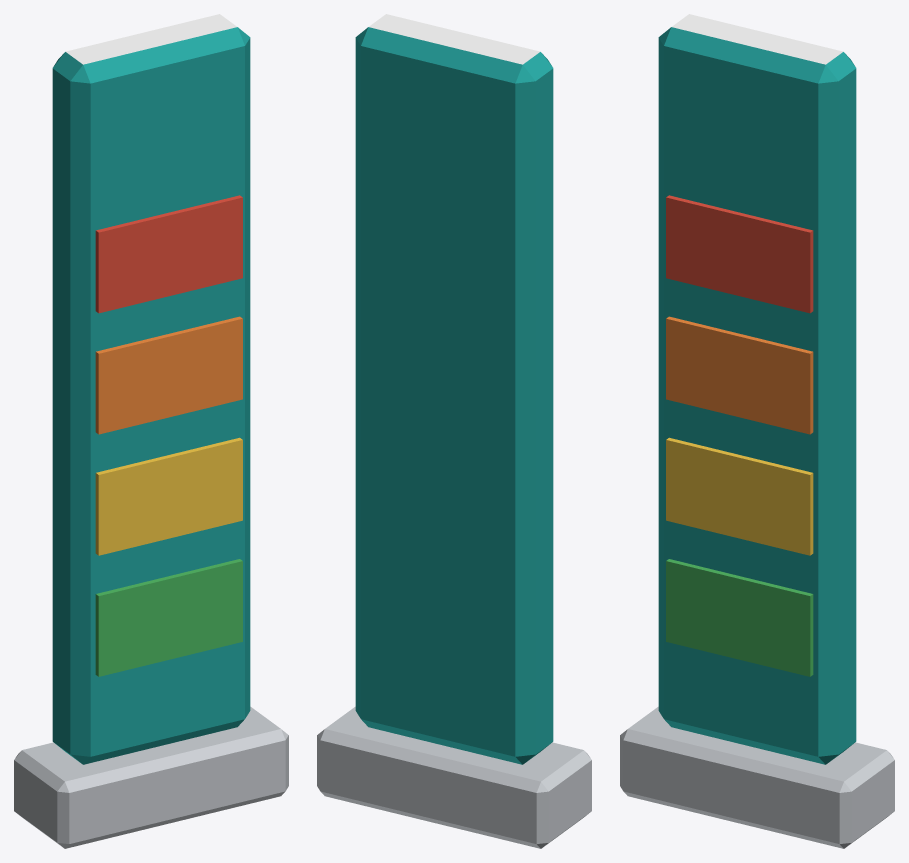
Rendered from sign.fbx.
3 renders of one model, left to right at view 1: azimuth 30°, elevation 25°; view 2: azimuth 150°, elevation 25°; view 3: azimuth 330°, elevation 25°, orthographic.
Visible parts, largest first — view 1: sign; view 2: sign; view 3: sign.
Boxes of the visible parts, x1,y1,x2,y2 form: sign: (14,14,288,848); sign: (317,14,591,848); sign: (620,14,894,848).
Size of the model in its own units: 0.9 by 2.85 by 0.35.
